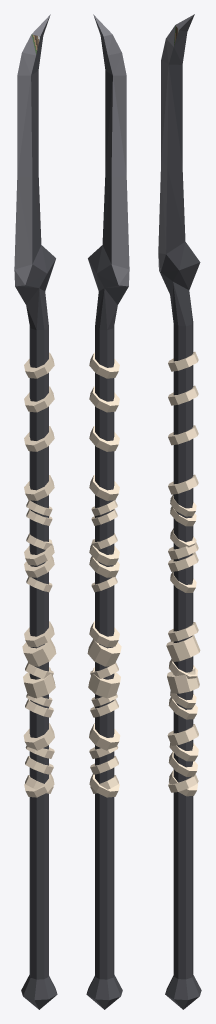
File: Lanca_B24.fbx
3 renders of one model, left to right at view 1: azimuth 30°, elevation 25°; view 2: azimuth 150°, elevation 25°; view 3: azimuth 330°, elevation 25°, orthographic.
Visible parts, largest first — view 1: polearm_24; view 2: polearm_24; view 3: polearm_24.
Boxes of the visible parts, box(x1,y1,x2,y2) form: polearm_24: box(14, 14, 57, 1009); polearm_24: box(86, 14, 129, 1009); polearm_24: box(158, 14, 201, 1009).
Size of the model in its own units: 9.3 by 211 by 7.26.
